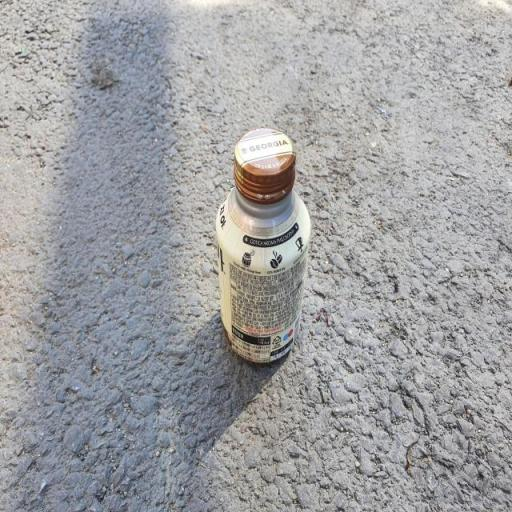metal: (200, 110, 354, 412)
